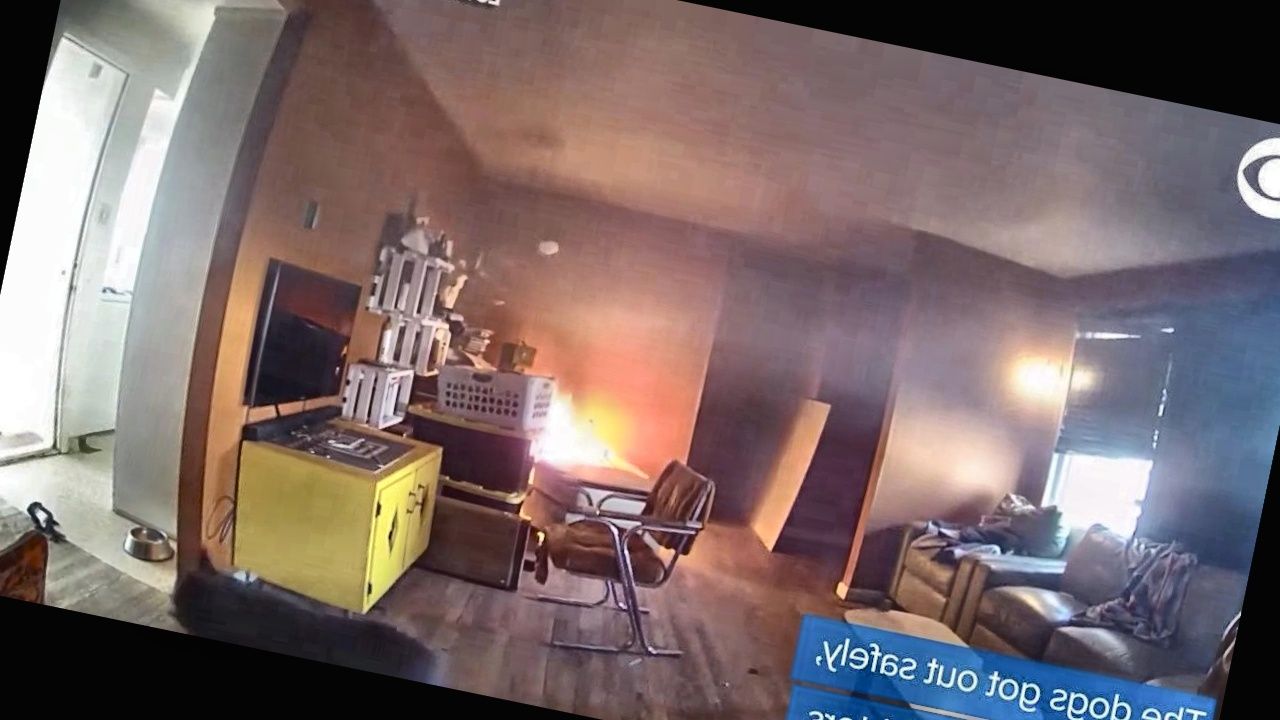fire: (511, 363, 670, 499)
